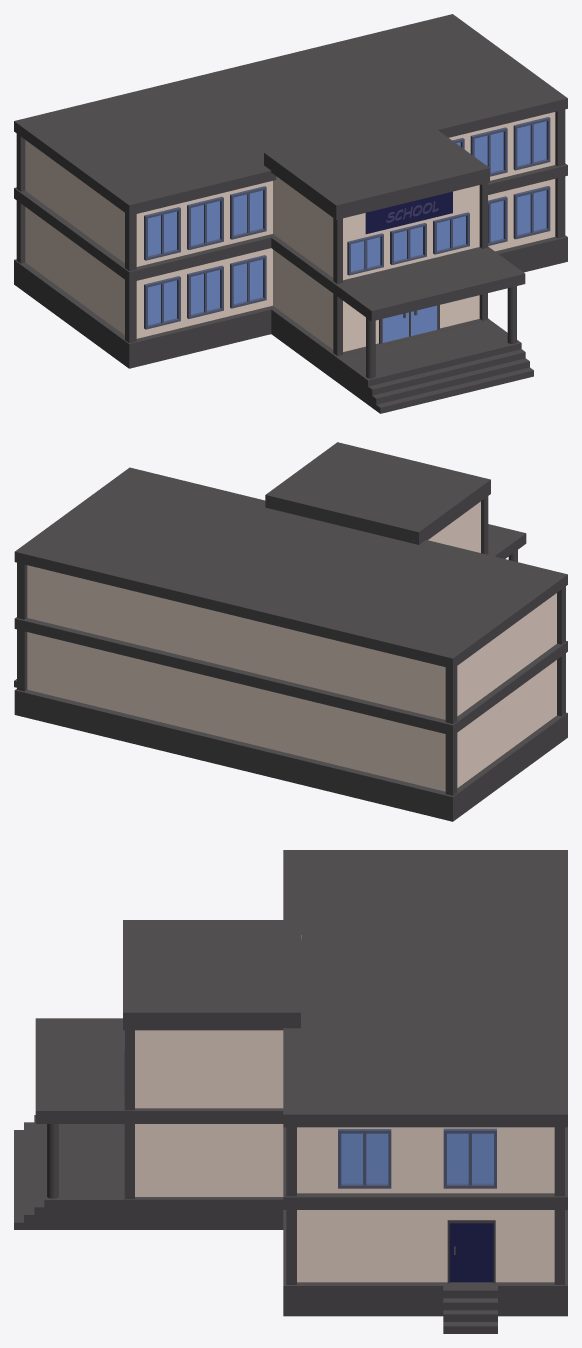
File: maktab 3lvl.fbx
3 views of the same model, one above another, from view 1: azimuth 30°, elevation 25°; view 2: azimuth 150°, elevation 25°; view 3: azimuth 270°, elevation 25° (orthographic). The views are drawn at different scales.
Parts seen in each view (by area): view 1: Cube.032, Cube.002, Cube.020, Wooden wall.006, Cube.001, Cube.004, Wooden wall.004, Wooden wall, Wooden wall.003, Cube, Wooden wall.008, Wooden wall.009 (+30 smaller); view 2: Cube.032, Wooden wall.006, Wooden wall.001, Cube.001, Cube.002, Cube, Wooden wall, Wooden wall.004, Cube.004, Wooden wall.003; view 3: Cube.032, Cube.002, Wooden wall.002, Wooden wall.004, Wooden wall.006, Cube.004, Wooden wall.005, Cube.020, Cube.001, Cube, Cube.003, Plane.019 (+7 smaller).
Boxes of the visible parts, x1,y1,x2,y2 form: Cube.032: [14, 14, 567, 215]; Cube.002: [264, 115, 489, 219]; Cube.020: [325, 320, 533, 413]; Wooden wall.006: [16, 109, 565, 271]; Cube.001: [14, 235, 567, 368]; Cube.004: [271, 236, 525, 321]; Wooden wall.004: [273, 176, 487, 284]; Wooden wall: [16, 200, 124, 334]; Wooden wall.003: [125, 179, 555, 343]; Cube: [14, 163, 567, 282]; Wooden wall.008: [273, 249, 333, 349]; Wooden wall.009: [333, 294, 479, 355]; Cube.032: [14, 467, 567, 668]; Wooden wall.006: [17, 562, 565, 723]; Wooden wall.001: [17, 629, 445, 791]; Cube.001: [14, 689, 567, 821]; Cube.002: [265, 442, 490, 544]; Cube: [14, 617, 567, 735]; Wooden wall: [445, 660, 556, 795]; Wooden wall.004: [428, 496, 488, 554]; Cube.004: [488, 524, 526, 558]; Wooden wall.003: [557, 653, 565, 716]; Cube.032: [283, 850, 567, 1127]; Cube.002: [123, 920, 300, 1030]; Wooden wall.002: [286, 1210, 554, 1284]; Wooden wall.004: [124, 935, 301, 1110]; Wooden wall.006: [286, 1127, 564, 1196]; Cube.004: [35, 1018, 283, 1123]; Wooden wall.005: [124, 1124, 283, 1198]; Cube.020: [14, 1115, 170, 1229]; Cube.001: [283, 1210, 567, 1316]; Cube: [283, 1127, 567, 1209]; Cube.003: [123, 1124, 283, 1229]; Plane.019: [449, 1223, 493, 1282].
Size of the model in its own units: 7336 by 2639 by 6092.
